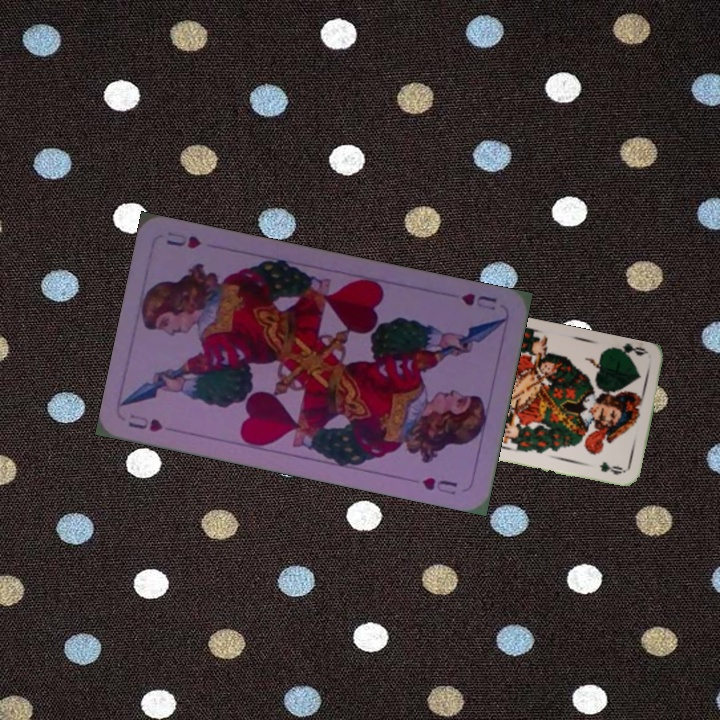GO: (609, 340, 649, 362)
HU: (124, 410, 165, 435), (458, 289, 500, 313)
